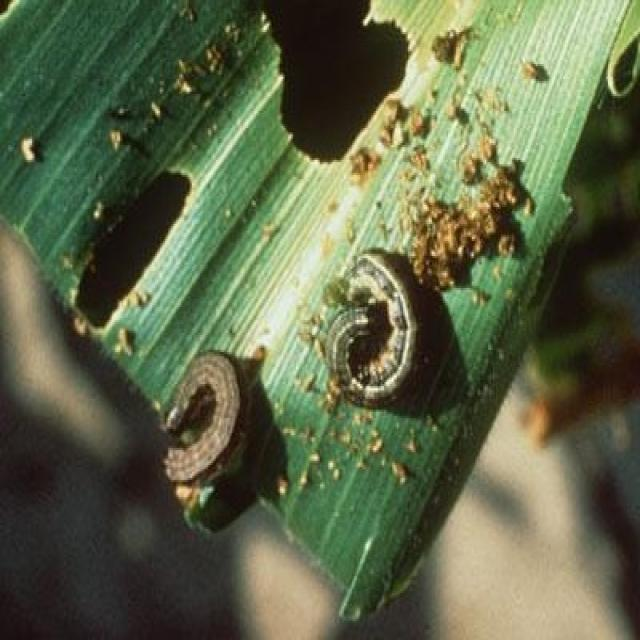army worm: (327, 249, 417, 411), (157, 350, 242, 493)
